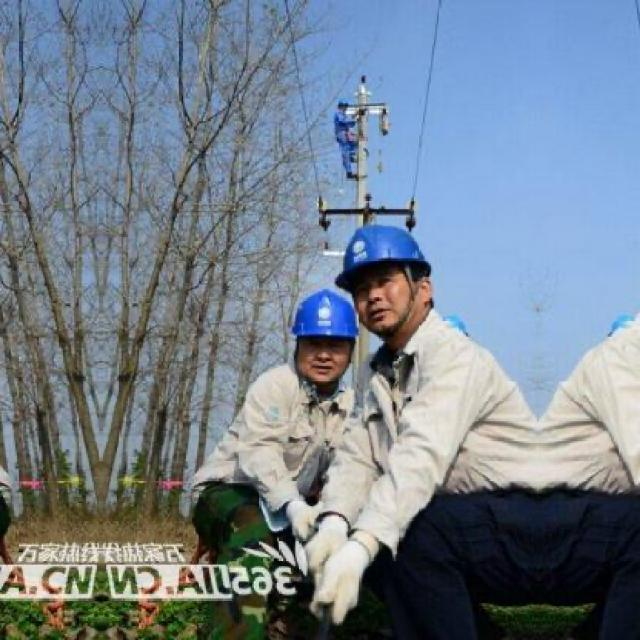helmet: (329, 211, 445, 343), (285, 282, 369, 389)
